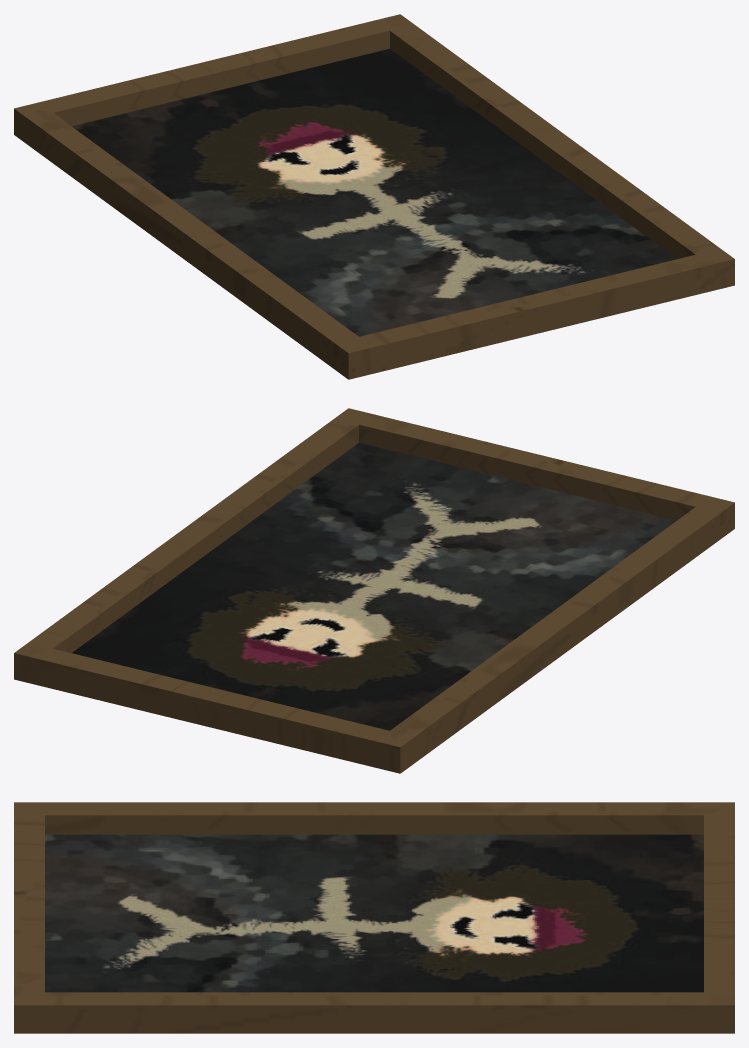
The model's file is joako.fbx.
3 renders of one model, top to bottom at view 1: azimuth 30°, elevation 25°; view 2: azimuth 150°, elevation 25°; view 3: azimuth 270°, elevation 25°, orthographic. The views are drawn at different scales.
Parts seen in each view (by area): view 1: Cuadros.001; view 2: Cuadros.001; view 3: Cuadros.001.
Part boxes in pixels (x1,y1,x2,y2): Cuadros.001: [14, 14, 734, 379]; Cuadros.001: [14, 408, 734, 773]; Cuadros.001: [14, 802, 734, 1033].
Bounding box in the file's own units: 40 × 2.61 × 60.
2 materials, 2 textured.
